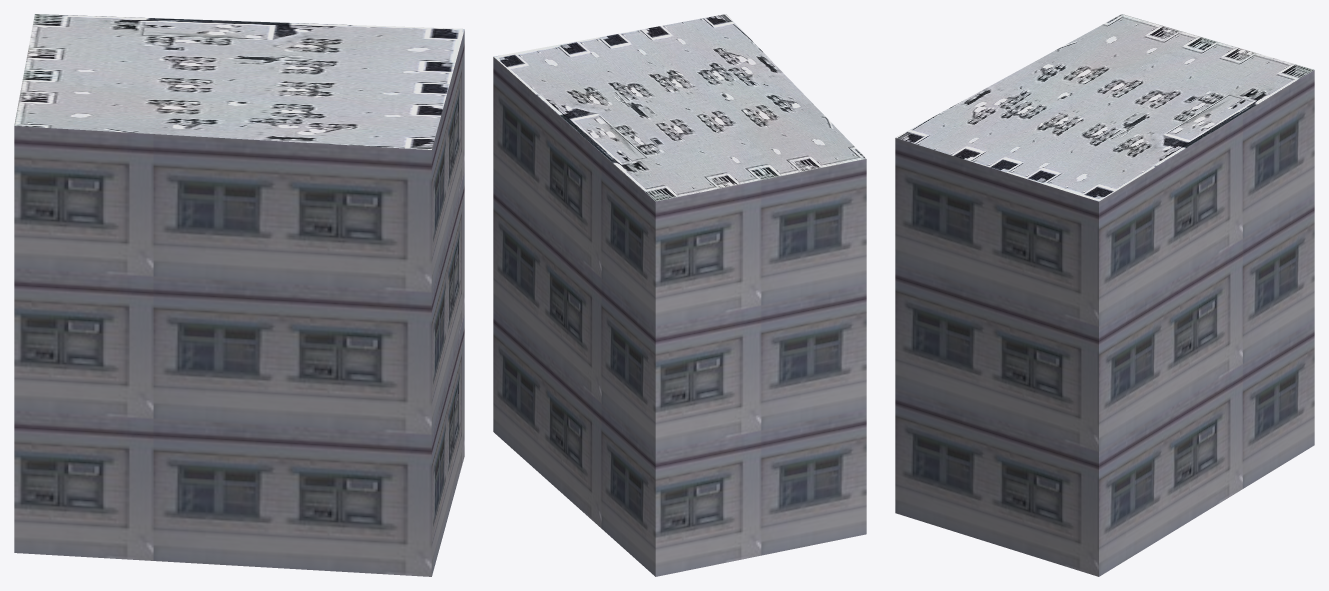
Rendered from ResTex__3630.fbx.
The picture shows the model from 3 angles, left to right: view 1: azimuth 30°, elevation 25°; view 2: azimuth 150°, elevation 25°; view 3: azimuth 270°, elevation 25°; orthographic projection. The views are drawn at different scales.
Parts seen in each view (by area): view 1: CityEngineMaterial_1_m, CityEngineMaterial_m; view 2: CityEngineMaterial_1_m, CityEngineMaterial_m; view 3: CityEngineMaterial_1_m, CityEngineMaterial_m.
Boxes of the visible parts, bbox=[...] form: CityEngineMaterial_1_m: bbox=[14, 30, 464, 576]; CityEngineMaterial_m: bbox=[14, 14, 464, 149]; CityEngineMaterial_1_m: bbox=[493, 57, 866, 576]; CityEngineMaterial_m: bbox=[494, 14, 865, 201]; CityEngineMaterial_1_m: bbox=[895, 70, 1314, 576]; CityEngineMaterial_m: bbox=[895, 14, 1314, 201].
Bounding box in the file's own units: 9.65 × 9 × 9.12.
2 materials, 2 textured.
